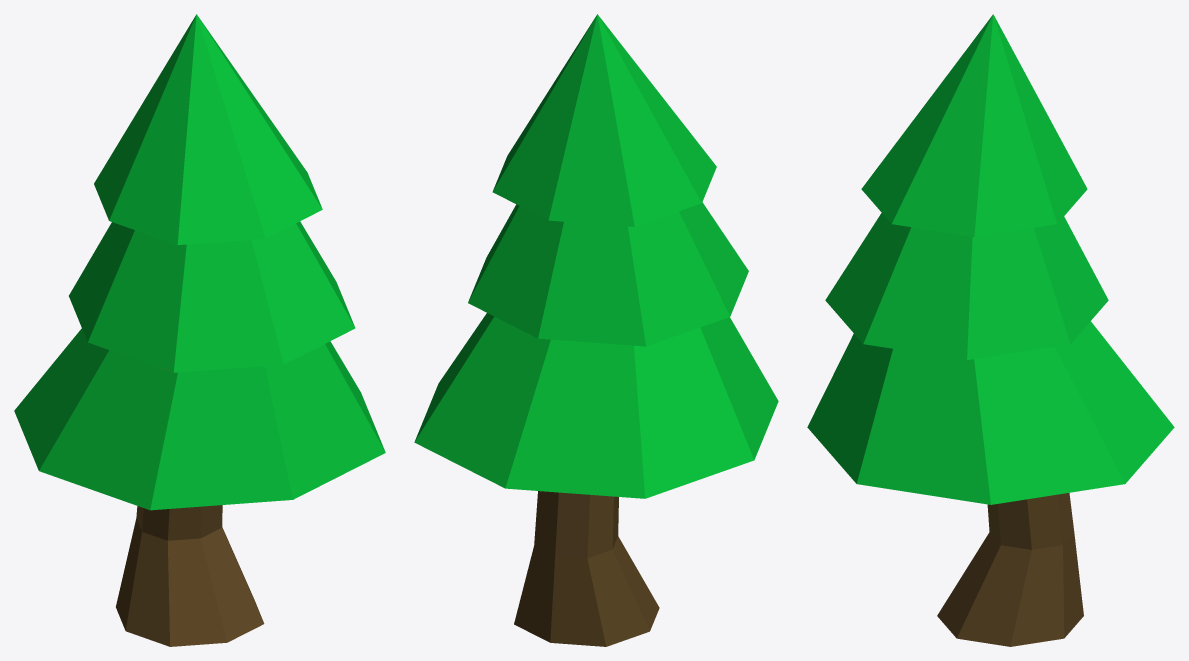
Rendered from tree_1.fbx.
3 views of the same model, side by side, from view 1: azimuth 30°, elevation 25°; view 2: azimuth 150°, elevation 25°; view 3: azimuth 270°, elevation 25° (orthographic). The views are drawn at different scales.
Visible parts, largest first — view 1: Cube.003; view 2: Cube.003; view 3: Cube.003.
Boxes of the visible parts, left/top/right/bottom form: Cube.003: left=14, top=14, right=385, bottom=646; Cube.003: left=414, top=14, right=778, bottom=646; Cube.003: left=807, top=14, right=1174, bottom=646.
Bounding box in the file's own units: 3.76 × 6.78 × 3.76.
Materials: 1 (1 with a texture image).
